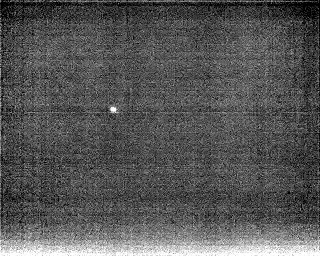AIRPLANE: (108, 104, 119, 115)
